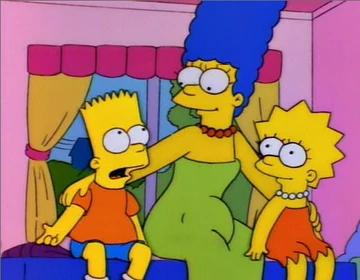Bart: (49, 90, 170, 280)
Lisa: (245, 86, 347, 279)
Marge: (159, 0, 267, 280)
